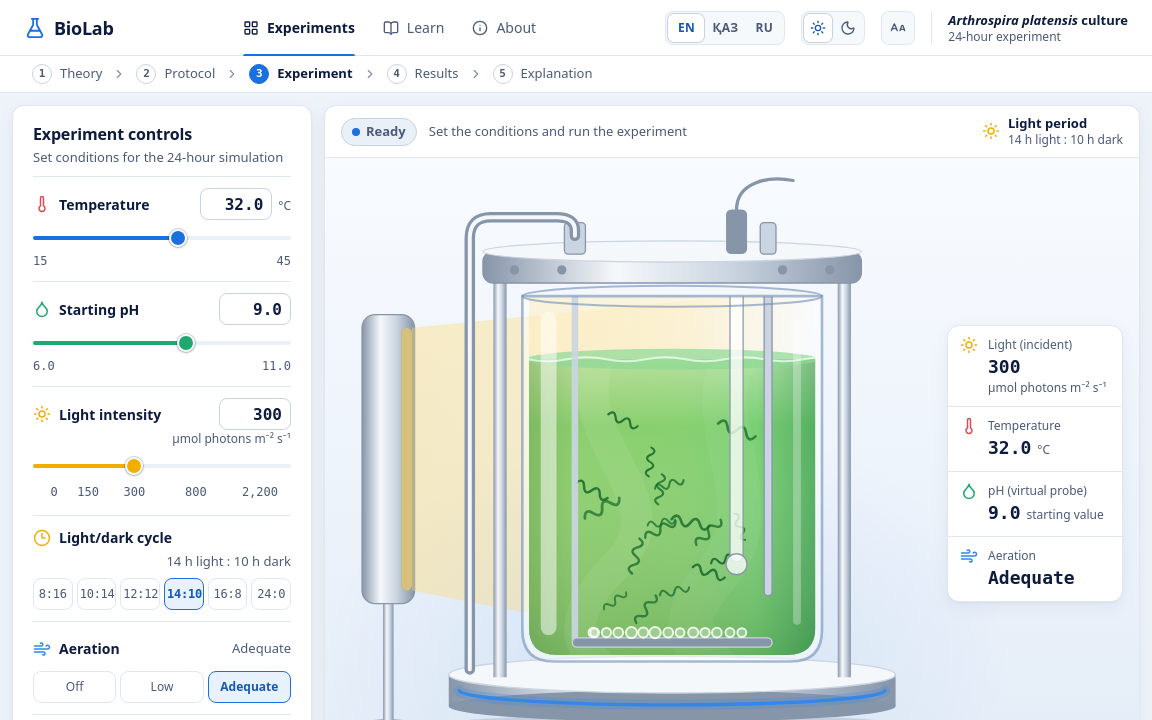
it: learning layer (PRD-0003 §1–§8) › W22 previews are clearly marked and never pretend to work
Click the link "Learn": (414,28) x1=383 y1=18 x2=444 y2=37
(page scrolled)
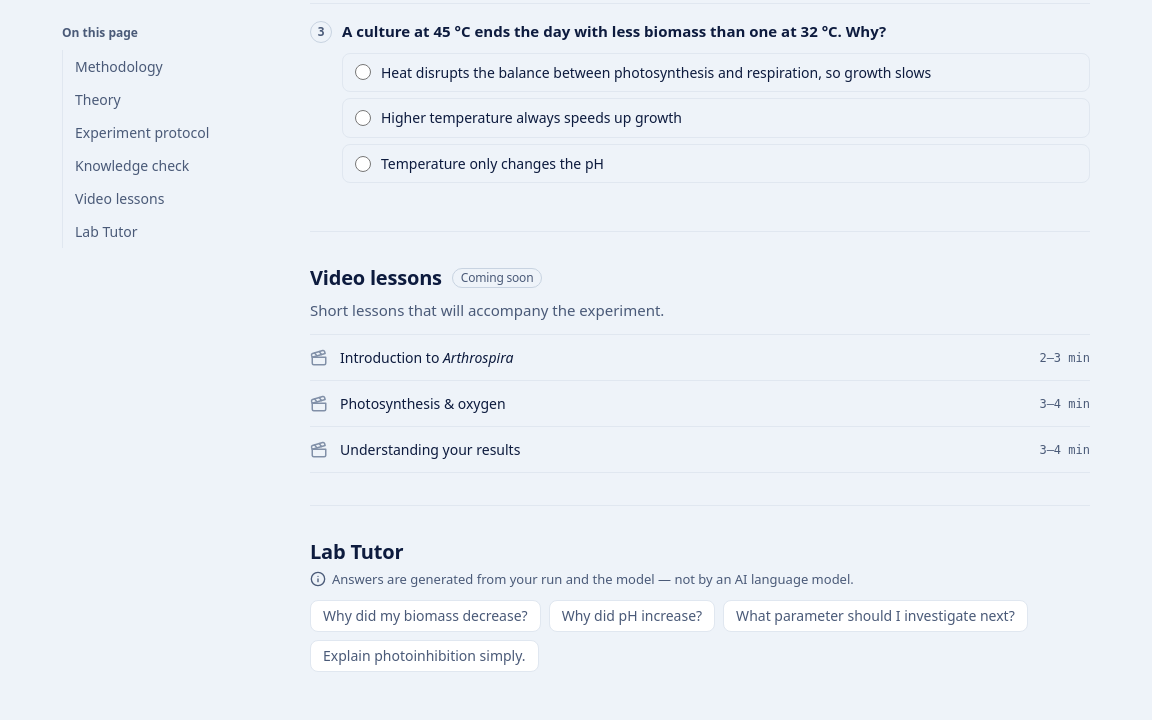
Expected: the element "Lab Tutor" shows "not by an AI language model", x1=332 y1=570 x2=854 y2=588
Expected: the field is gone
Expected: the element "Video lessons" shows "Coming soon", x1=461 y1=269 x2=533 y2=286
